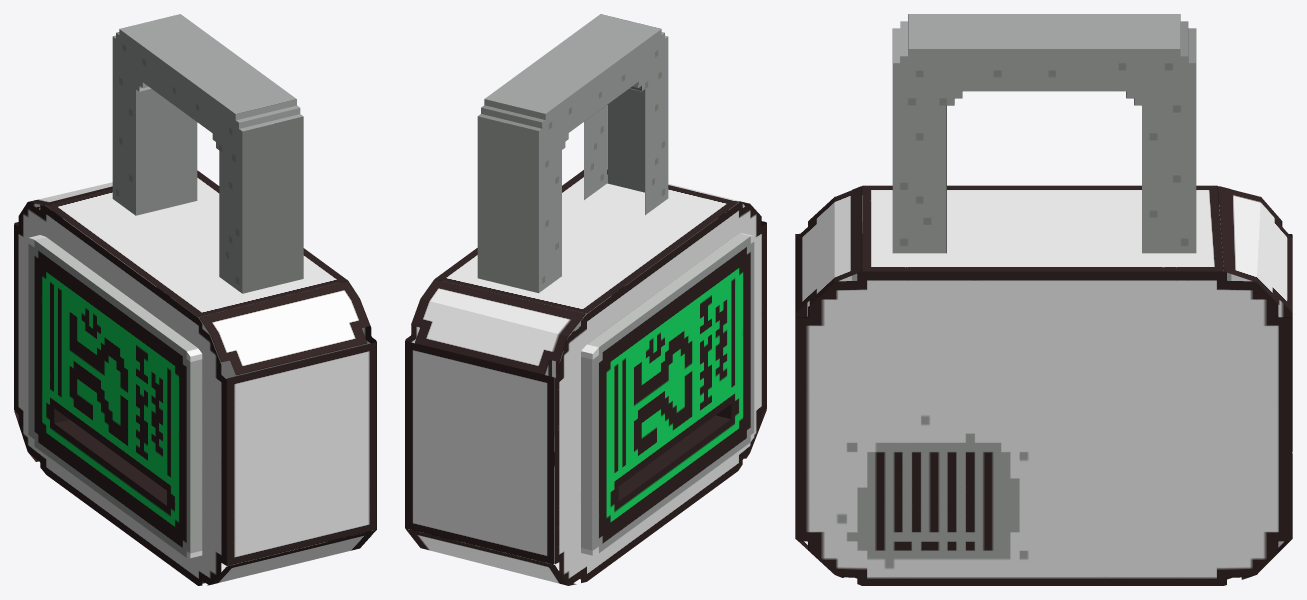
File: Lock 1.fbx
3 renders of one model, left to right at view 1: azimuth 30°, elevation 25°; view 2: azimuth 150°, elevation 25°; view 3: azimuth 270°, elevation 25°, orthographic. The views are drawn at different scales.
Parts seen in each view (by area): view 1: Cube, Plane; view 2: Cube, Plane; view 3: Cube, Plane.
Part boxes in pixels (x1,y1,x2,y2): Cube: [14, 170, 376, 585]; Plane: [112, 14, 303, 293]; Cube: [405, 169, 766, 585]; Plane: [477, 14, 668, 293]; Cube: [795, 185, 1292, 585]; Plane: [892, 14, 1196, 253].
Size of the model in its own units: 126 by 330 by 287.
Materials: 2 (2 with a texture image).
